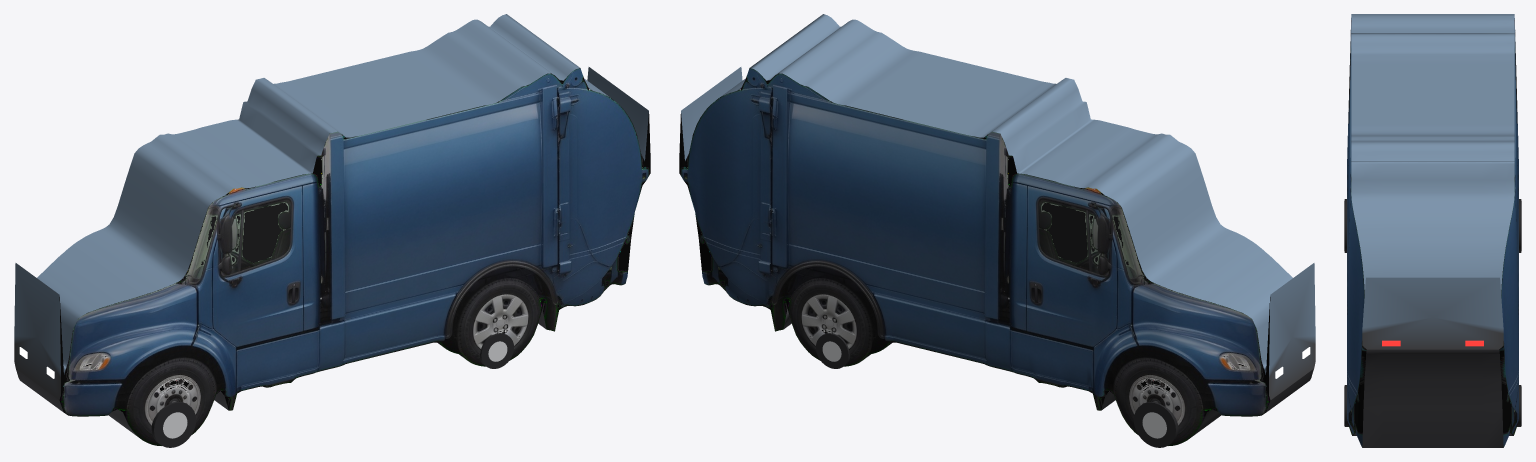
Rendered from garbage.glb.
The picture shows the model from 3 angles, left to right: view 1: azimuth 30°, elevation 25°; view 2: azimuth 150°, elevation 25°; view 3: azimuth 270°, elevation 25°; orthographic projection. The views are drawn at different scales.
Visible parts, largest first — view 1: garbage; view 2: garbage; view 3: garbage.
Part boxes in pixels (x1=…): garbage: x1=14, y1=14, x2=650, y2=447; garbage: x1=679, y1=14, x2=1315, y2=447; garbage: x1=1344, y1=14, x2=1521, y2=447.
Size of the model in its own units: 7.73 by 3.54 by 1.84.
Materials: 8 (2 with a texture image).
